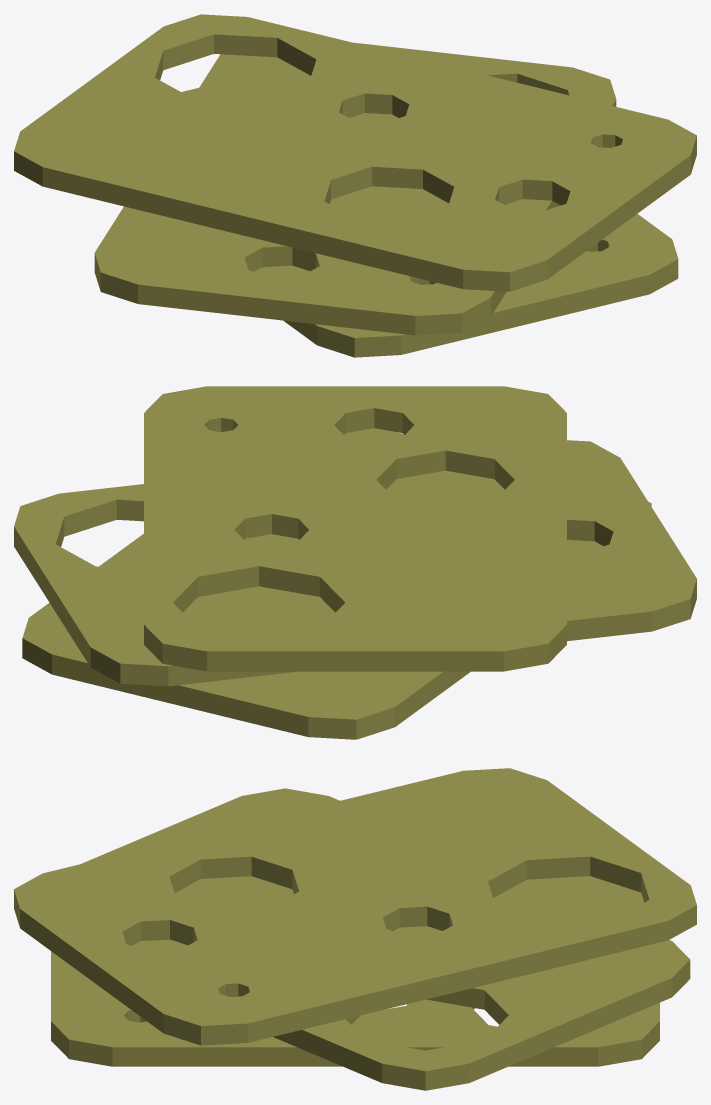
File: SM_CheeseSlice3.fbx
3 views of the same model, one above another, from view 1: azimuth 30°, elevation 25°; view 2: azimuth 150°, elevation 25°; view 3: azimuth 270°, elevation 25° (orthographic). The views are drawn at different scales.
Parts seen in each view (by area): view 1: CheeseSlice3; view 2: CheeseSlice3; view 3: CheeseSlice3.
Boxes of the visible parts, x1=… form: CheeseSlice3: x1=14, y1=14, x2=696, y2=357; CheeseSlice3: x1=14, y1=386, x2=696, y2=739; CheeseSlice3: x1=14, y1=768, x2=696, y2=1090.
Size of the model in its own units: 18.64 by 2.28 by 19.01.
